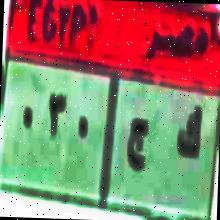0: (14, 96, 36, 142), (72, 112, 93, 148)
3: (45, 80, 68, 144)
jeem: (119, 112, 152, 178)
kaaf: (174, 104, 204, 164)
